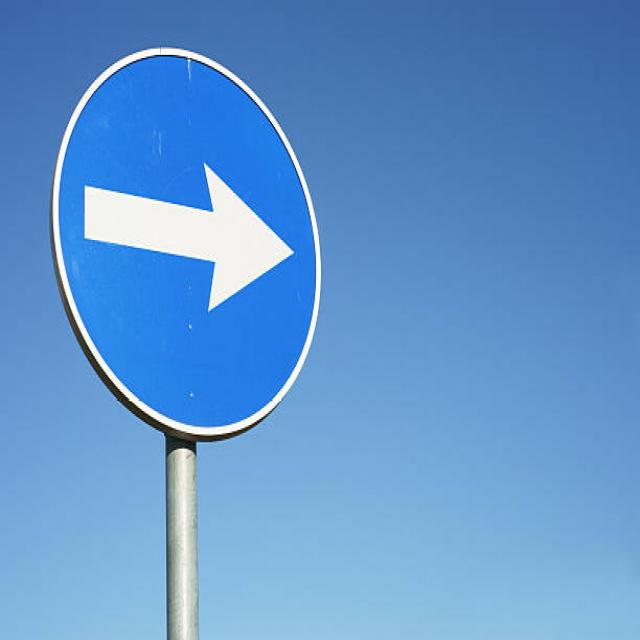compulsory_keep_right: (55, 40, 326, 440)
